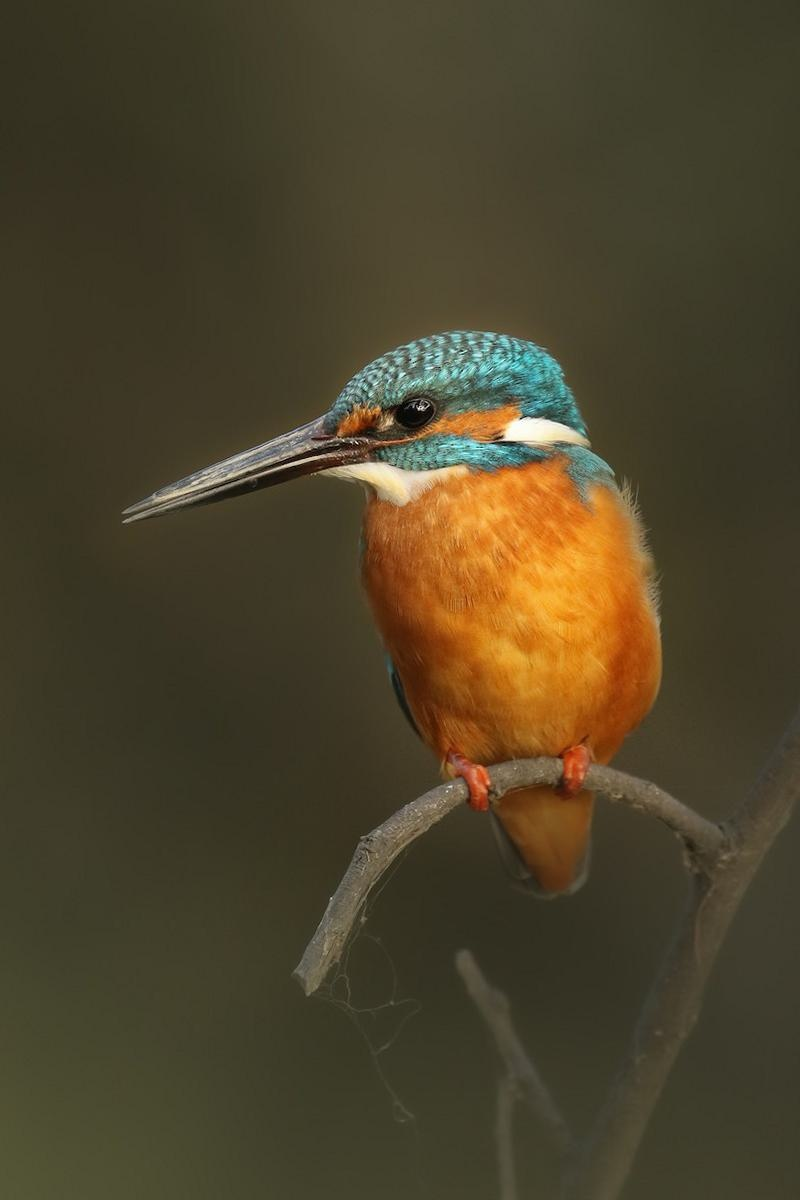kingfisher: (119, 301, 662, 921)
